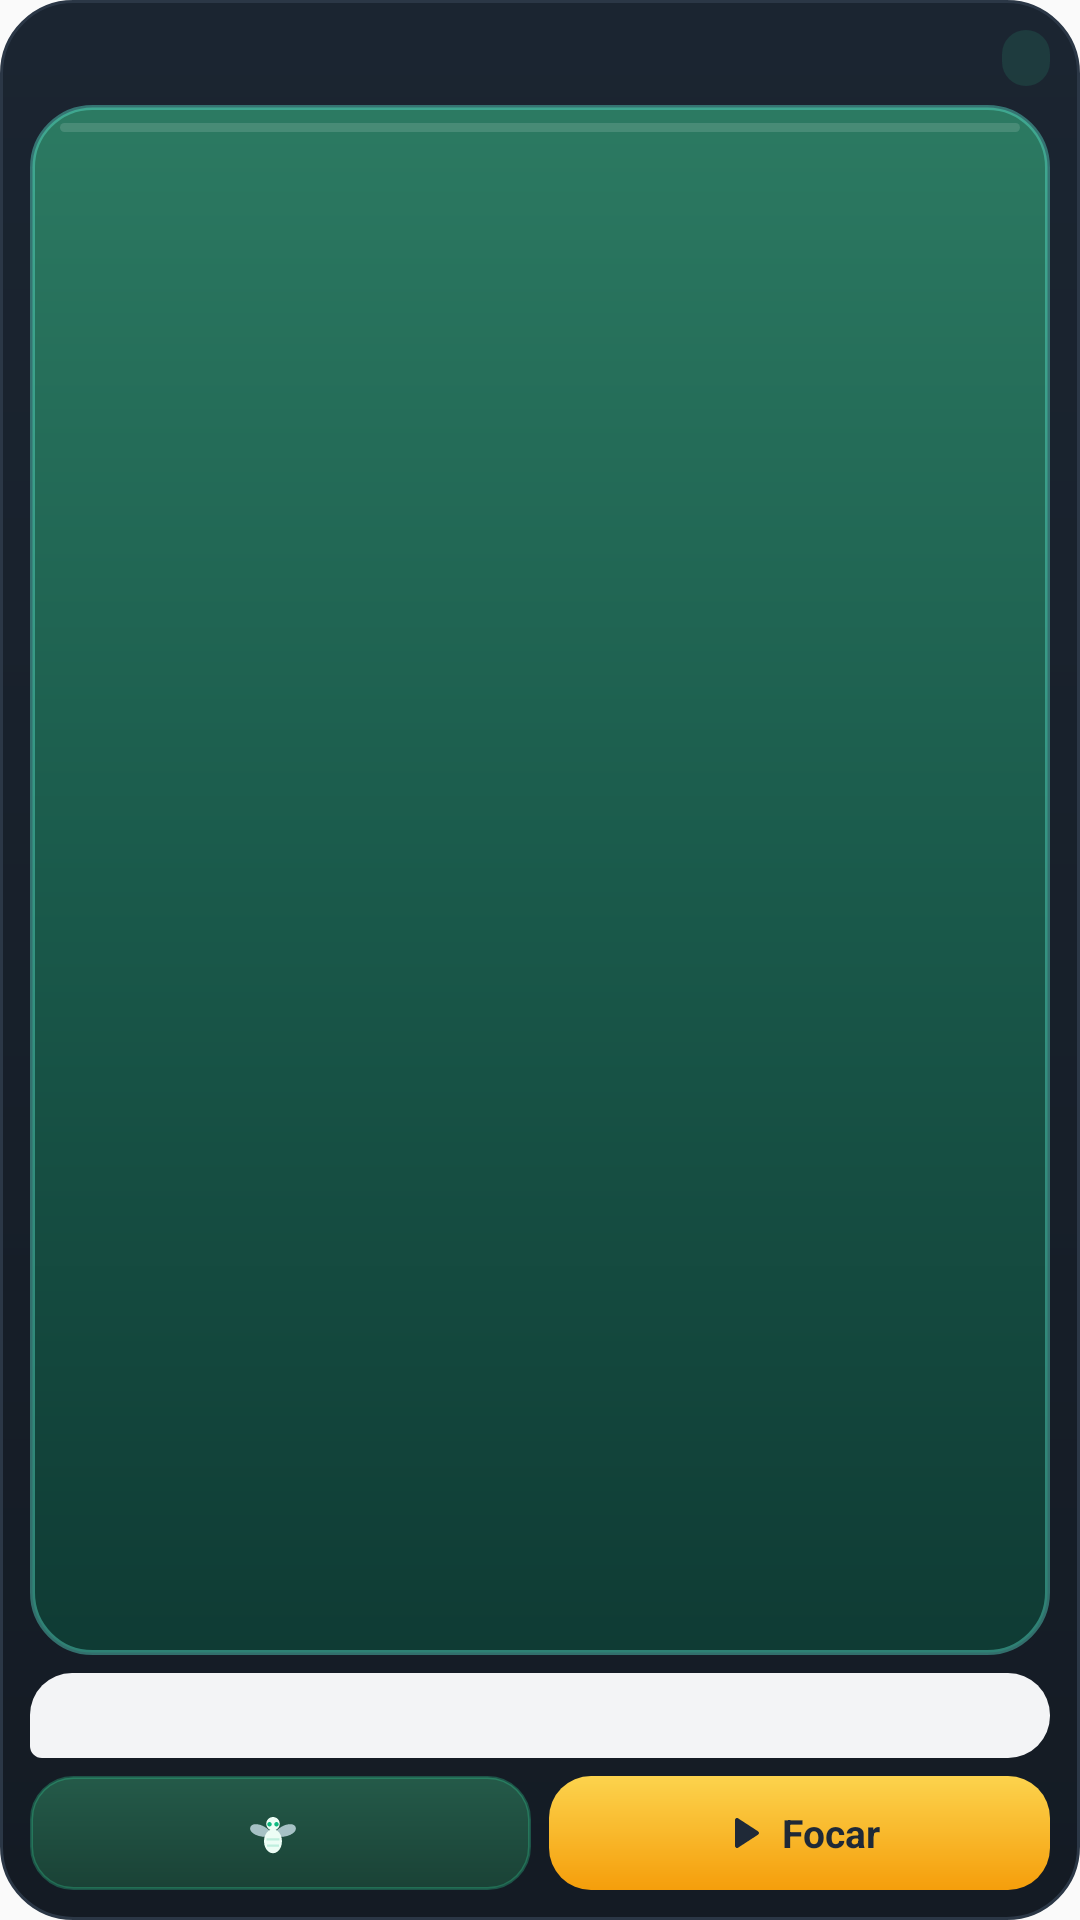

Screen size 1080px x 1920px. Icon name, then its center in pixels as [x,y]:
widget fly: [273,1835]
widget play: [743,1837]
